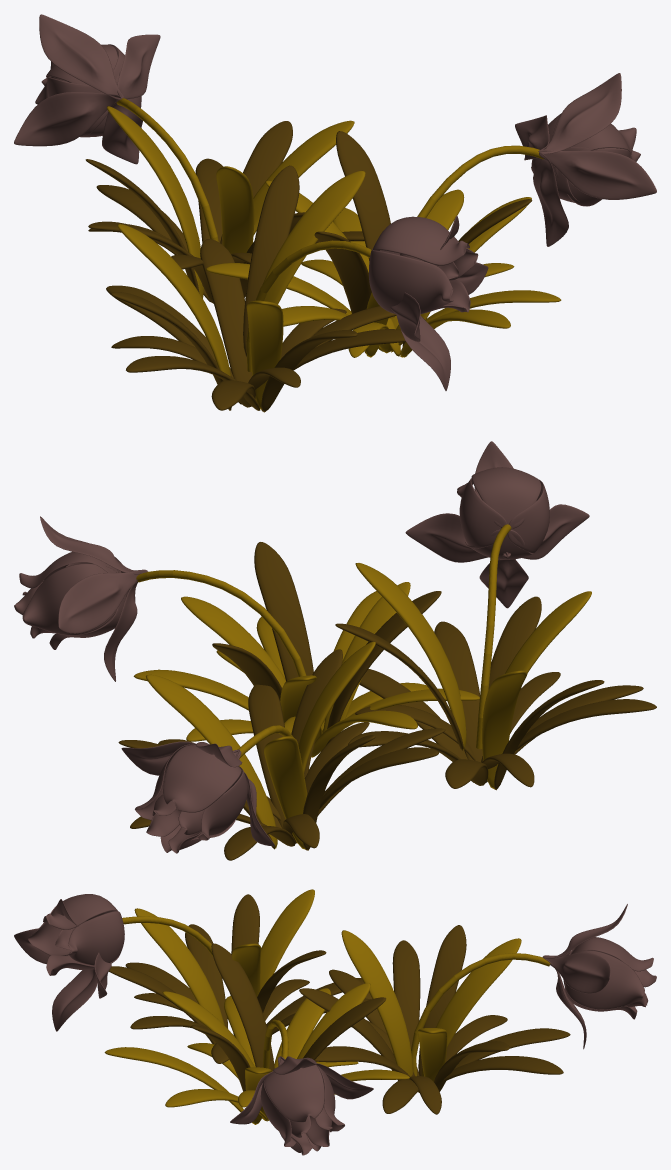
File: flores2_MARCHITAS_2 (1).fbx
3 views of the same model, one above another, from view 1: azimuth 30°, elevation 25°; view 2: azimuth 150°, elevation 25°; view 3: azimuth 270°, elevation 25° (orthographic). The views are drawn at different scales.
Visible parts, largest first — view 1: DEMAS2.034, DEMAS2.035, Plano.077, Cubo.426, Cubo.430, Cubo.438, Plano.076, Cubo.440, Cubo.462, Cubo.488, Cubo.487, Cubo.439 (+33 smaller); view 2: DEMAS2.034, DEMAS2.035, Cubo.463, Cubo.438, Cubo.486, Plano.076, Cubo.440, Cubo.488, Cubo.431, DEMAS2.032, Cubo.487, Cubo.479 (+37 smaller); view 3: DEMAS2.035, DEMAS2.034, Cubo.487, Cubo.464, Cubo.488, Cubo.439, Plano.079, Cubo.476, Cubo.440, Cubo.477, Cubo.478, Cubo.453 (+36 smaller).
Boxes of the visible parts, x1=… form: DEMAS2.034: x1=14, y1=14, x2=160, y2=164; DEMAS2.035: x1=515, y1=73, x2=656, y2=246; Plano.077: x1=369, y1=249, x2=453, y2=314; Cubo.426: x1=243, y1=165, x2=299, y2=357; Cubo.430: x1=200, y1=239, x2=252, y2=382; Cubo.438: x1=262, y1=170, x2=365, y2=304; Plano.076: x1=372, y1=216, x2=469, y2=265; Cubo.440: x1=117, y1=224, x2=230, y2=376; Cubo.462: x1=336, y1=131, x2=390, y2=260; Cubo.488: x1=107, y1=106, x2=203, y2=298; Cubo.487: x1=216, y1=166, x2=254, y2=253; Cubo.439: x1=246, y1=300, x2=283, y2=409; DEMAS2.034: x1=121, y1=741, x2=274, y2=853; DEMAS2.035: x1=14, y1=516, x2=147, y2=681; Cubo.463: x1=254, y1=542, x2=313, y2=681; Cubo.438: x1=355, y1=563, x2=466, y2=749; Cubo.486: x1=146, y1=674, x2=277, y2=848; Plano.076: x1=471, y1=467, x2=541, y2=528; Cubo.440: x1=482, y1=670, x2=527, y2=789; Cubo.488: x1=264, y1=736, x2=307, y2=849; Cubo.431: x1=434, y1=621, x2=482, y2=762; DEMAS2.032: x1=405, y1=513, x2=507, y2=562; Cubo.487: x1=298, y1=641, x2=375, y2=772; Cubo.479: x1=248, y1=684, x2=285, y2=828; DEMAS2.035: x1=230, y1=1056, x2=373, y2=1155; DEMAS2.034: x1=542, y1=904, x2=656, y2=1049; Cubo.487: x1=341, y1=930, x2=412, y2=1076; Cubo.464: x1=211, y1=943, x2=274, y2=1071; Cubo.488: x1=422, y1=938, x2=521, y2=1076; Cubo.439: x1=134, y1=908, x2=224, y2=1025; Plano.079: x1=68, y1=911, x2=124, y2=965; Cubo.476: x1=418, y1=925, x2=466, y2=1075; Cubo.440: x1=260, y1=889, x2=314, y2=990; Cubo.477: x1=392, y1=940, x2=420, y2=1048; Cubo.478: x1=442, y1=1056, x2=563, y2=1082; Cubo.453: x1=104, y1=1047, x2=243, y2=1112.
Bounding box in the file's own units: 1034 × 422 × 1220.
